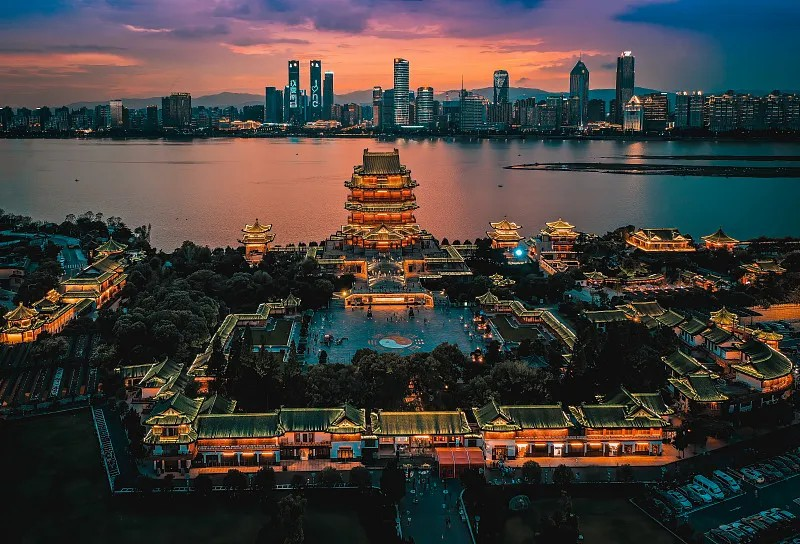Teng: (333, 147, 423, 253)
